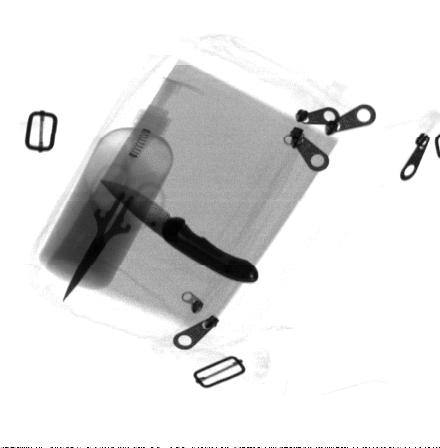Knife: (99, 178, 260, 283)
Scissors: (62, 164, 167, 301)
